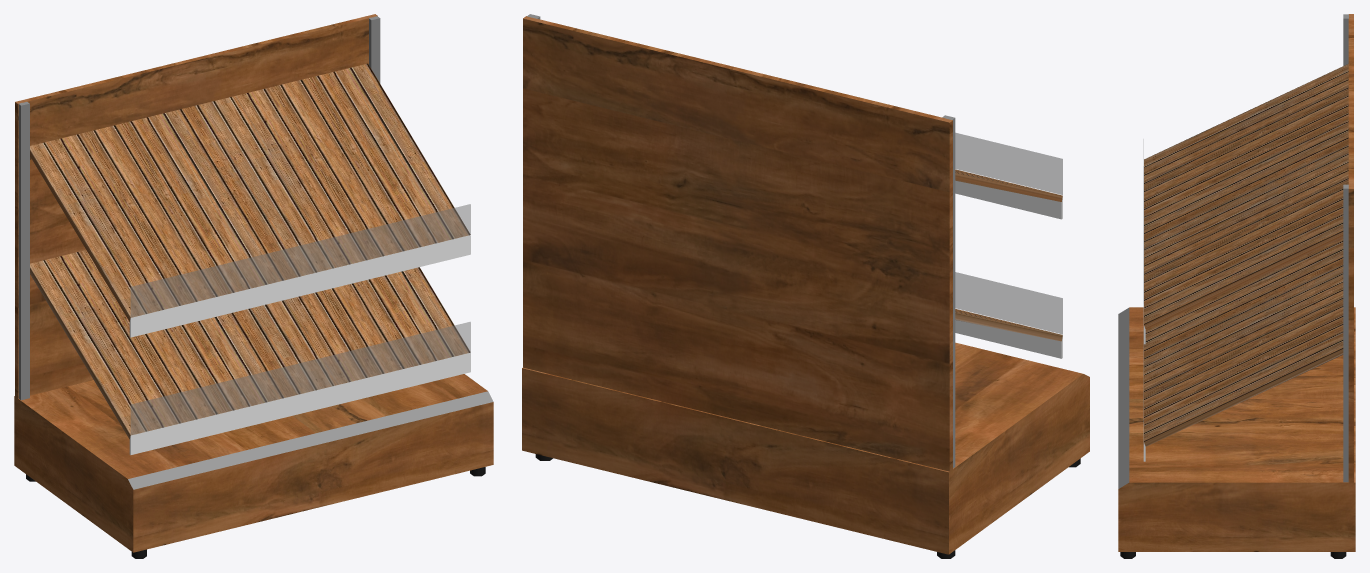
File: ray_store_bakery.FBX
3 renders of one model, left to right at view 1: azimuth 30°, elevation 25°; view 2: azimuth 150°, elevation 25°; view 3: azimuth 270°, elevation 25°, orthographic. The views are drawn at different scales.
Parts seen in each view (by area): view 1: ray_store_bakery_001; view 2: ray_store_bakery_001; view 3: ray_store_bakery_001.
Part boxes in pixels (left/top/right/bottom): ray_store_bakery_001: left=14, top=14, right=493, bottom=558; ray_store_bakery_001: left=522, top=14, right=1089, bottom=558; ray_store_bakery_001: left=1118, top=14, right=1355, bottom=558.
Size of the model in its own units: 1.97 by 1.95 by 1.13.
